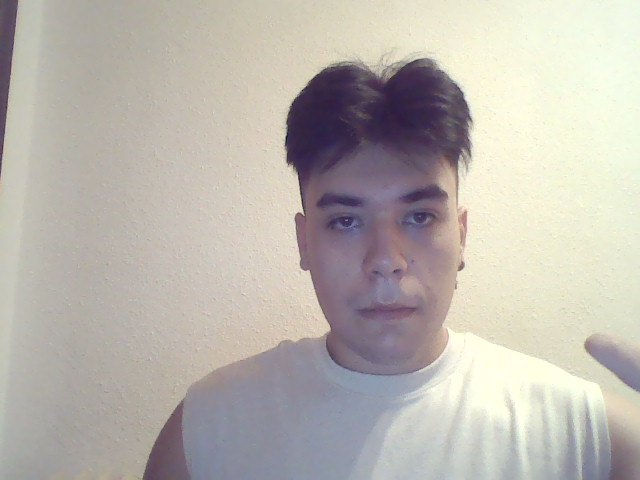Hola: (584, 248, 640, 410)
